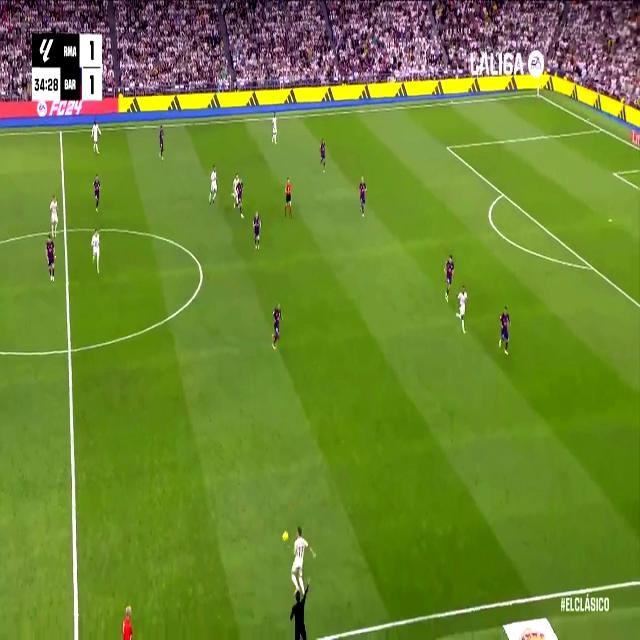bigarea_top_inner: (444, 140, 451, 154)
bigarea_top_outter: (598, 121, 605, 135)
bottom_arc_area_intersection: (587, 257, 596, 276)
halfcircle_bottom: (64, 336, 76, 362)
halfcircle_top: (60, 219, 70, 239)
midline_top_intersection: (58, 125, 64, 139)
smallarea_top_inner: (612, 168, 617, 179)
top_arc_area_intersection: (500, 187, 506, 200)
